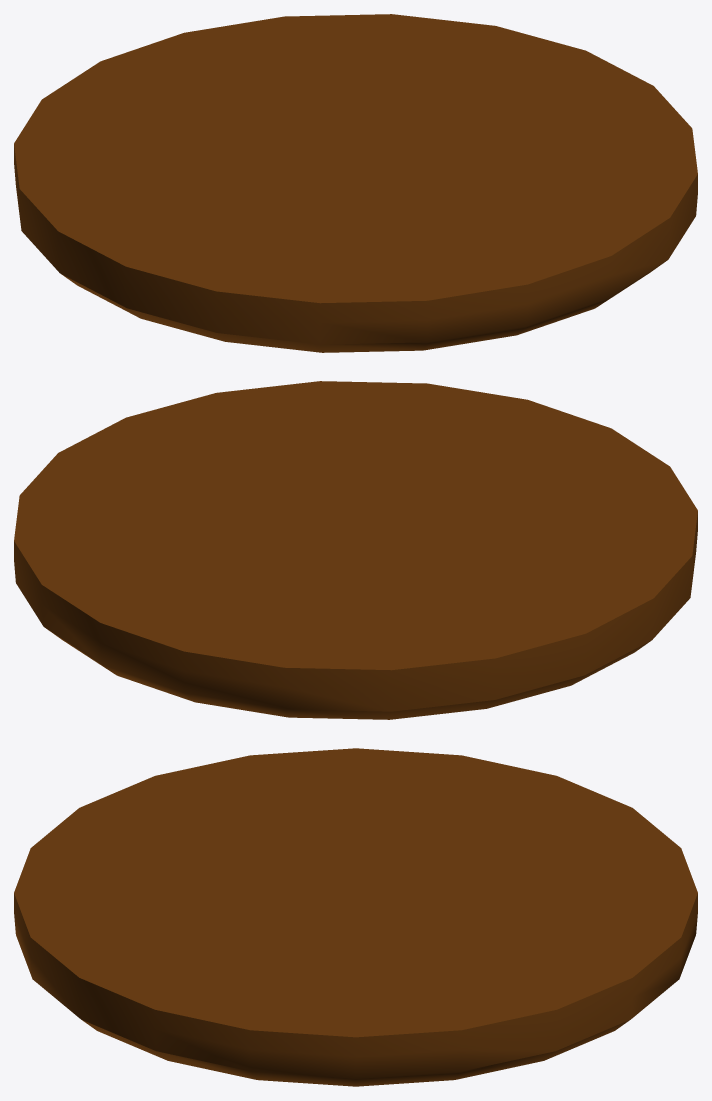
File: hamburgerbread2.fbx
3 views of the same model, one above another, from view 1: azimuth 30°, elevation 25°; view 2: azimuth 150°, elevation 25°; view 3: azimuth 270°, elevation 25° (orthographic).
Parts seen in each view (by area): view 1: hamburgerbread2; view 2: hamburgerbread2; view 3: hamburgerbread2.
Part boxes in pixels (x1=…): hamburgerbread2: x1=14, y1=14, x2=697, y2=352; hamburgerbread2: x1=14, y1=381, x2=697, y2=719; hamburgerbread2: x1=14, y1=748, x2=697, y2=1086.
Bounding box in the file's own units: 33.63 × 3.51 × 33.63.
